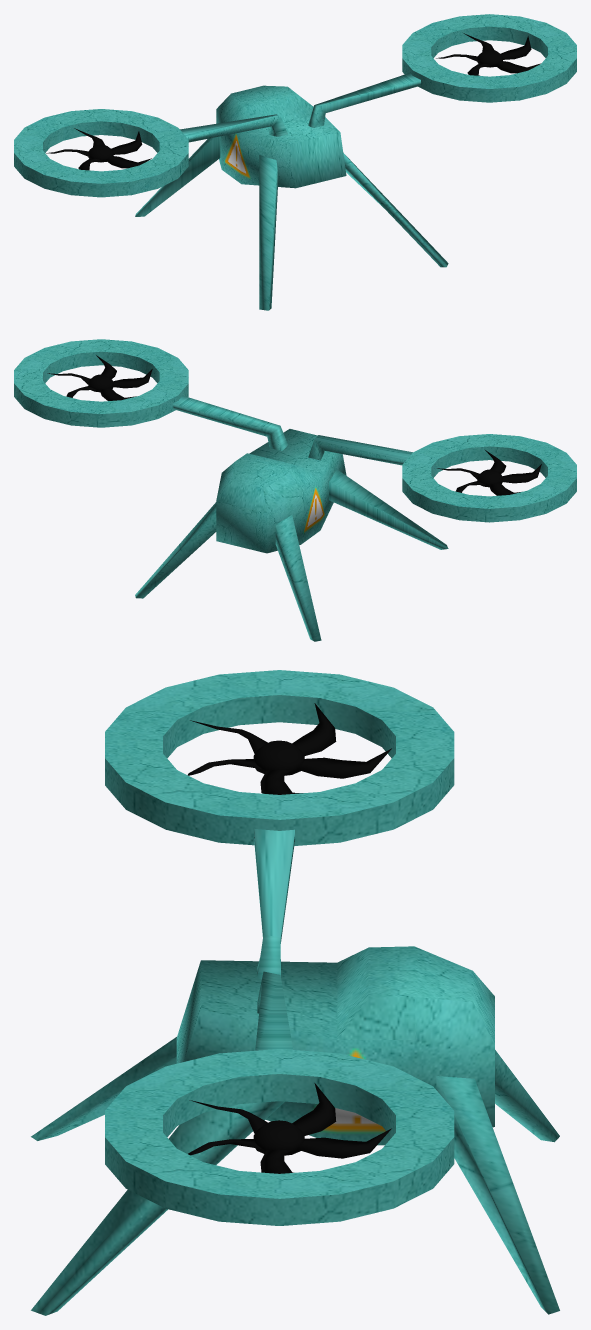
Rendered from BPLA.fbx.
The picture shows the model from 3 angles, top to bottom: view 1: azimuth 30°, elevation 25°; view 2: azimuth 150°, elevation 25°; view 3: azimuth 270°, elevation 25°; orthographic projection. The views are drawn at different scales.
Visible parts, largest first — view 1: BPLA.1, Left, Right, Vint.2, Vint; view 2: BPLA.1, Left, Right, Vint.2, Vint; view 3: BPLA.1, Right, Left, Vint, Vint.2.
Part boxes in pixels (box(x1,y1,x2,y2)): BPLA.1: box(135, 73, 448, 310); Left: box(14, 109, 188, 197); Right: box(402, 14, 576, 102); Vint.2: box(436, 33, 540, 75); Vint: box(46, 128, 151, 170); BPLA.1: box(135, 395, 448, 641); Left: box(402, 434, 576, 522); Right: box(14, 339, 188, 427); Vint.2: box(47, 355, 152, 400); Vint: box(437, 450, 541, 495); BPLA.1: box(31, 828, 559, 1315); Right: box(105, 1049, 454, 1225); Left: box(105, 670, 454, 845); Vint: box(188, 703, 391, 794); Vint.2: box(188, 1083, 391, 1173).
Size of the model in its own units: 1058 by 270 by 448.
1 material, 1 textured.
